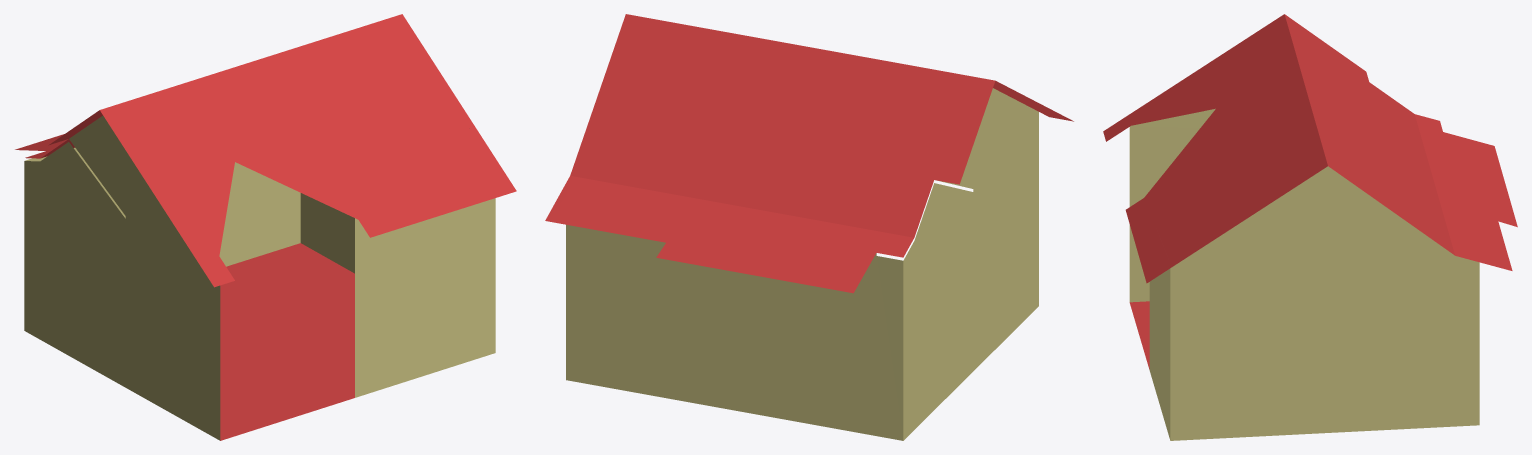
3 views of the same model, side by side, from view 1: azimuth 30°, elevation 25°; view 2: azimuth 150°, elevation 25°; view 3: azimuth 270°, elevation 25° (orthographic). The views are drawn at different scales.
Size of the model in its own units: 13.08 by 13.84 by 9.93.
